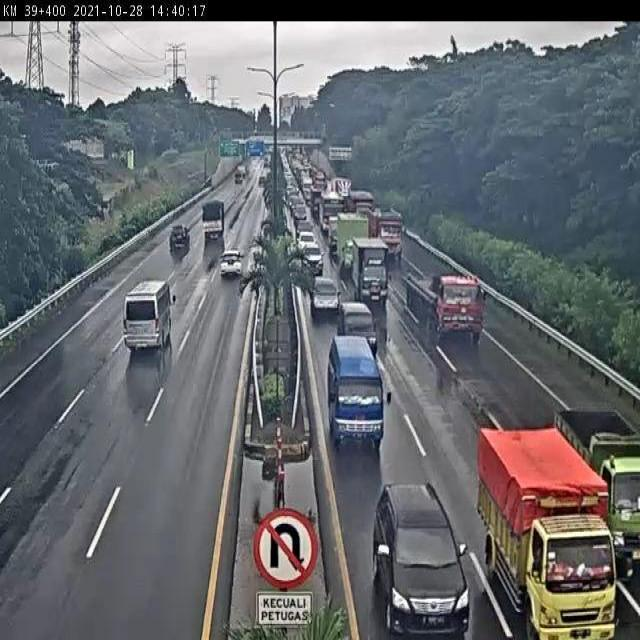car: (336, 303, 380, 356), (309, 279, 342, 321), (300, 241, 325, 279), (219, 248, 243, 280), (167, 223, 191, 252)
truck: (326, 336, 385, 455), (408, 271, 486, 341), (122, 277, 172, 352), (353, 239, 391, 313), (336, 212, 370, 281), (369, 205, 403, 259)
